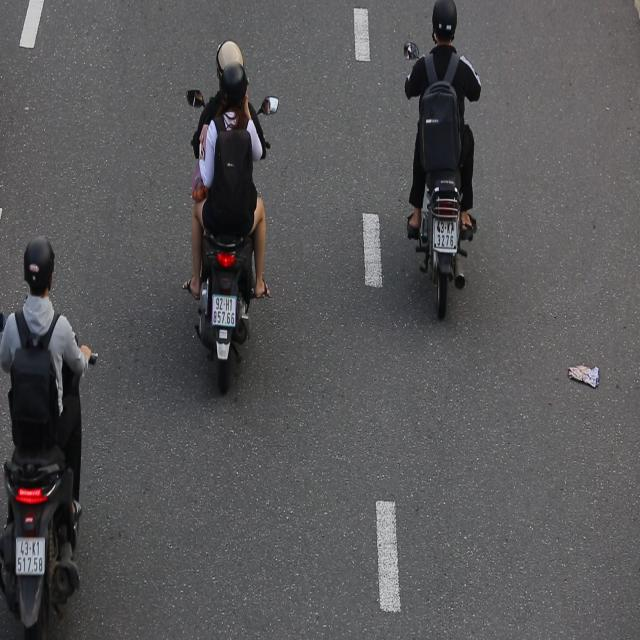motorbike: (174, 28, 288, 404), (1, 227, 103, 627), (392, 0, 498, 345)
